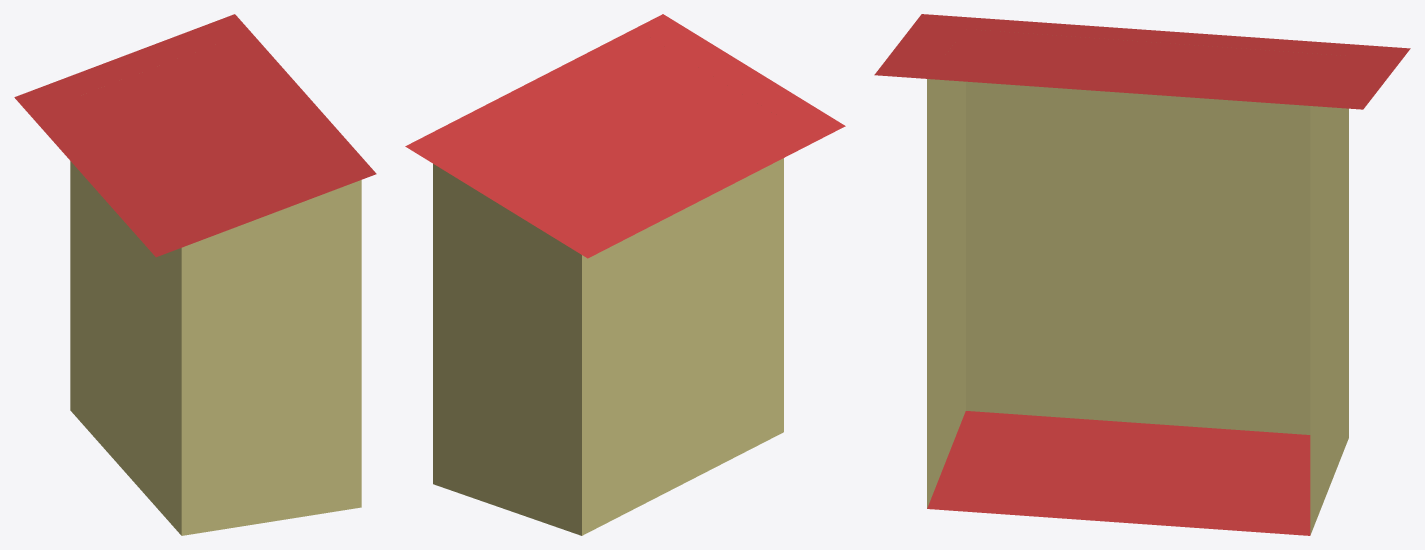
The picture shows the model from 3 angles, left to right: view 1: azimuth 30°, elevation 25°; view 2: azimuth 150°, elevation 25°; view 3: azimuth 270°, elevation 25°; orthographic projection. The views are drawn at different scales.
Bounding box in the file's own units: 5.12 × 7.5 × 6.63.
